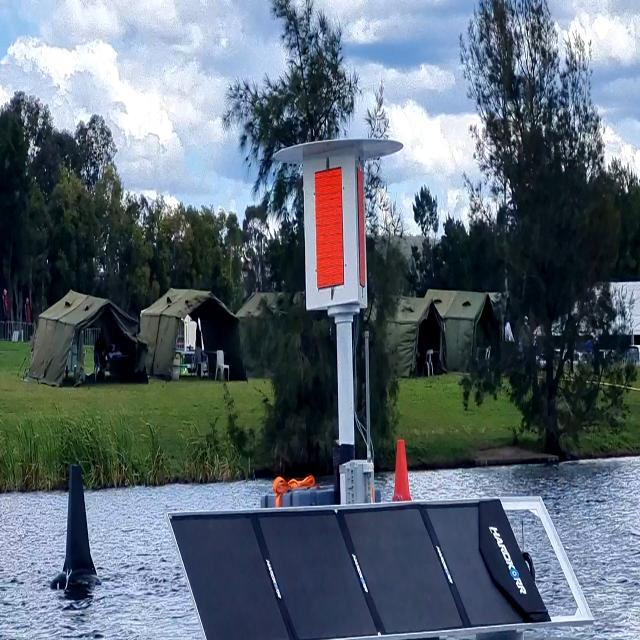led: (307, 159, 352, 296)
